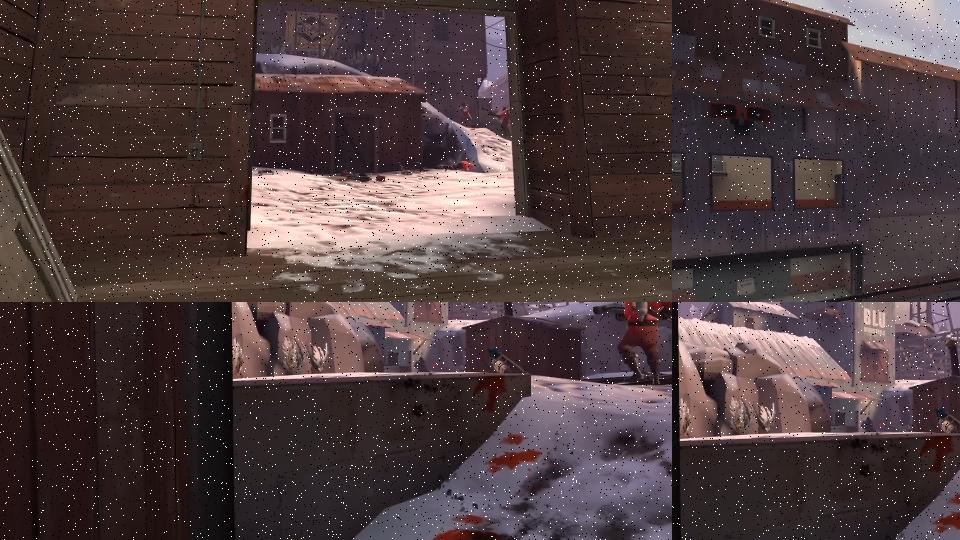Enemy: (592, 302, 672, 386), (481, 105, 510, 136), (442, 161, 475, 172), (459, 102, 473, 126)
